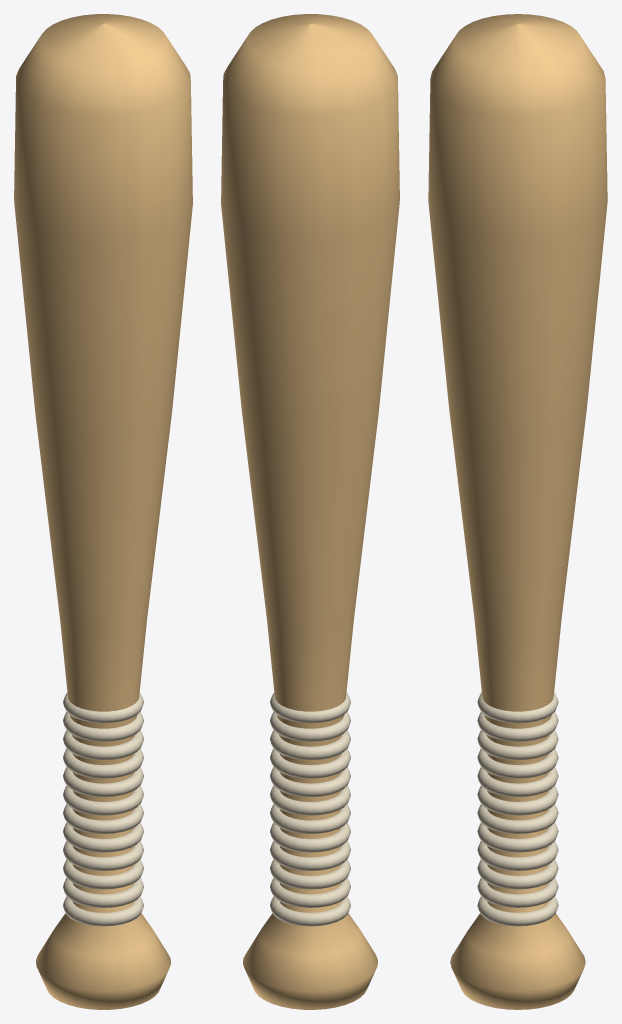
File: BAT.glb
The picture shows the model from 3 angles, left to right: view 1: azimuth 30°, elevation 25°; view 2: azimuth 150°, elevation 25°; view 3: azimuth 270°, elevation 25°; orthographic projection.
Visible parts, largest first — view 1: BAT; view 2: BAT; view 3: BAT.
Boxes of the visible parts, left/top/right/bottom form: BAT: left=14, top=14, right=192, bottom=1009; BAT: left=221, top=14, right=399, bottom=1009; BAT: left=428, top=14, right=607, bottom=1009.
Size of the model in its own units: 0.172 by 1.02 by 0.172.
Materials: 2 (2 with a texture image).
